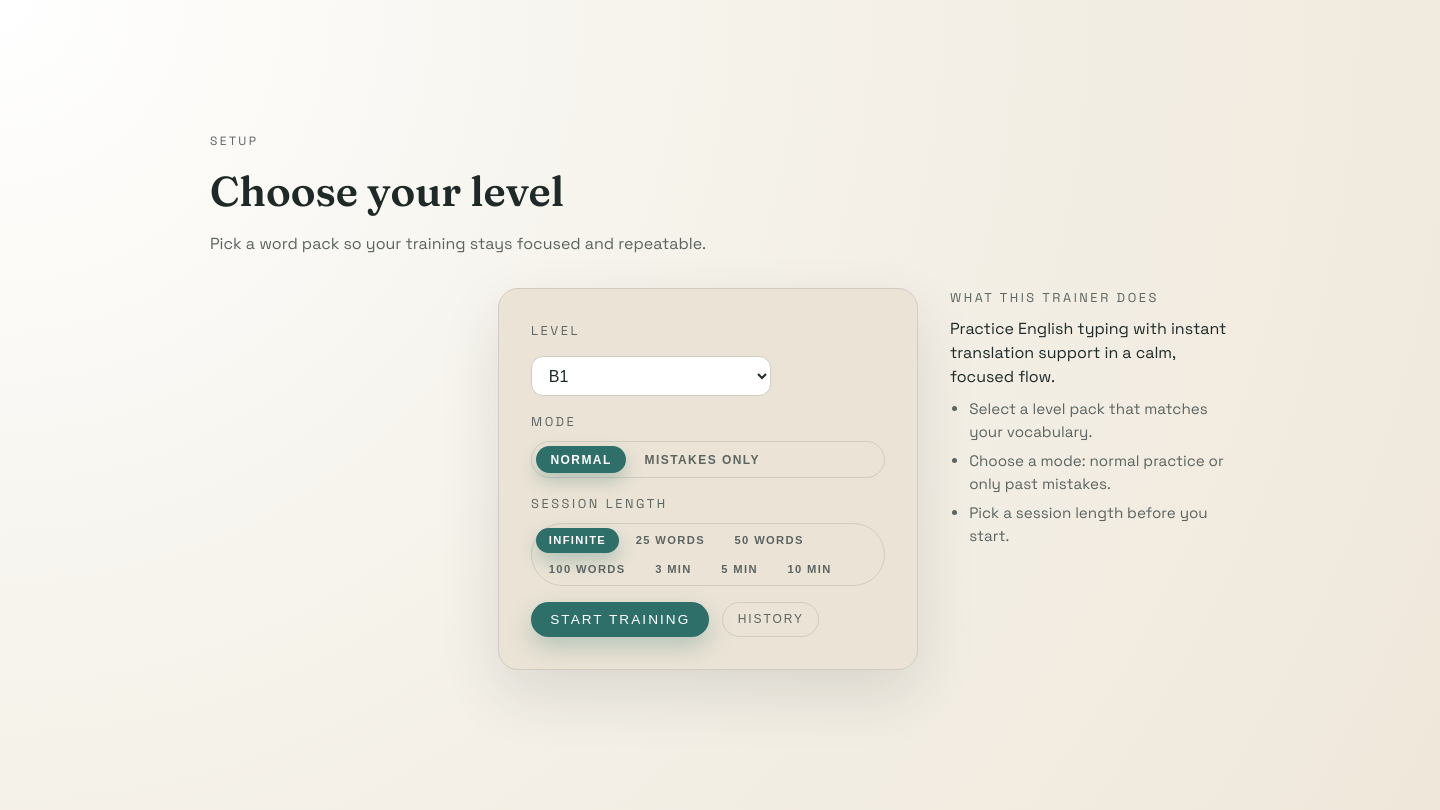
Test: SetupScreen › blocks start when mistakes mode has no mistakes
Click the button "Mistakes only" at (702, 460), box top-left (630, 446), bottom-right (774, 473)
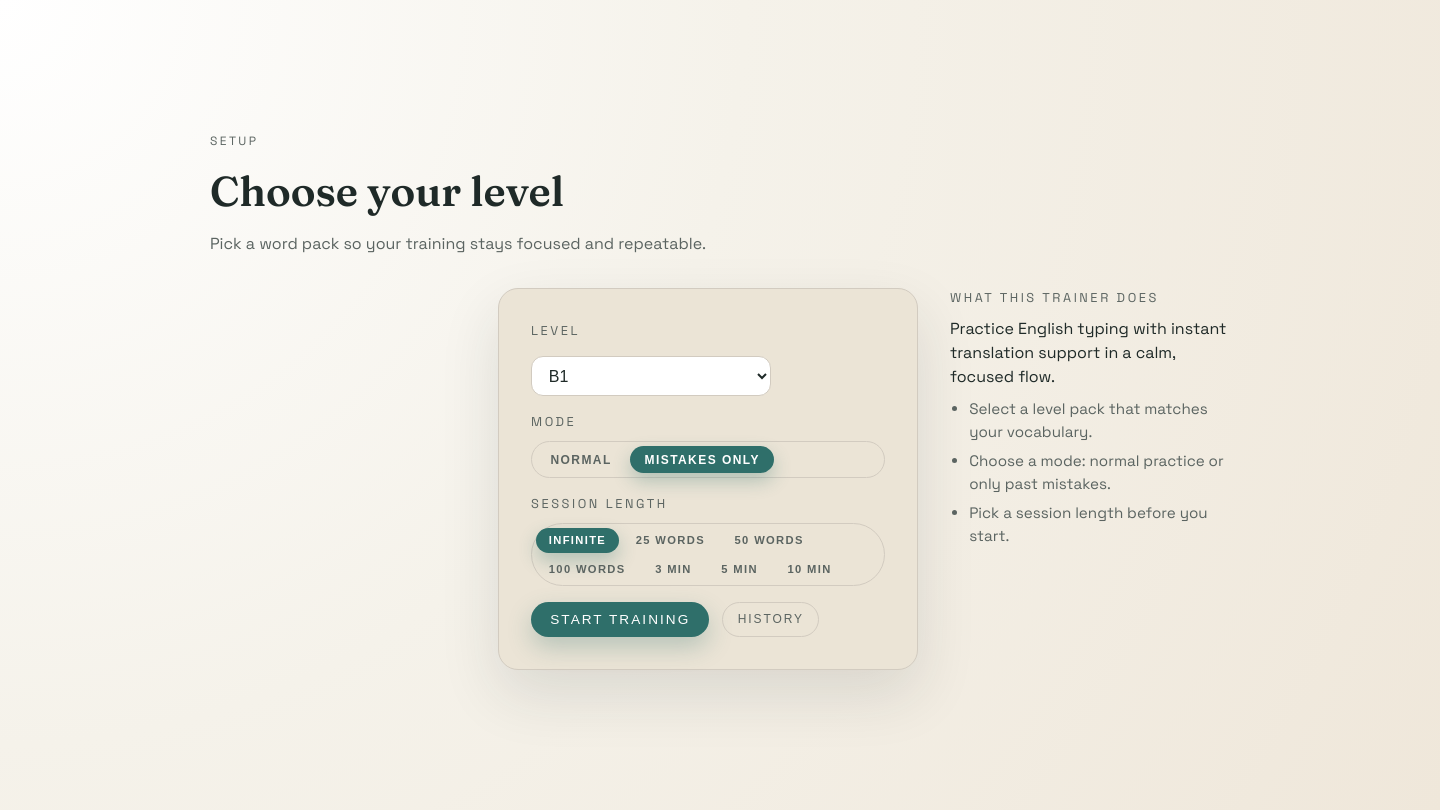
Click the button "Start training" at (620, 619), box top-left (531, 602), bottom-right (710, 636)
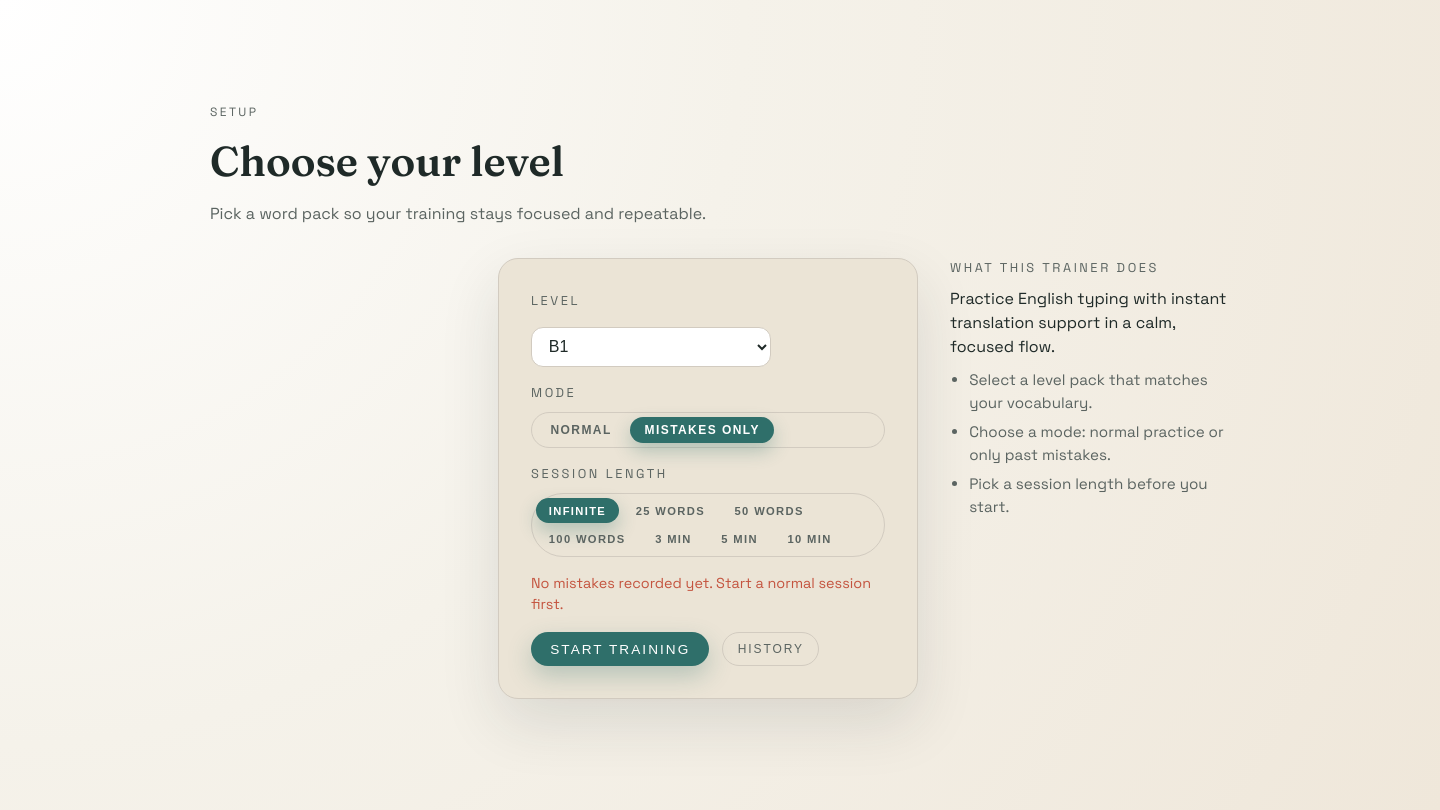
expect the text "No mistakes recorded yet. Start a normal session first." is shown: met, box top-left (531, 573), bottom-right (885, 616)
